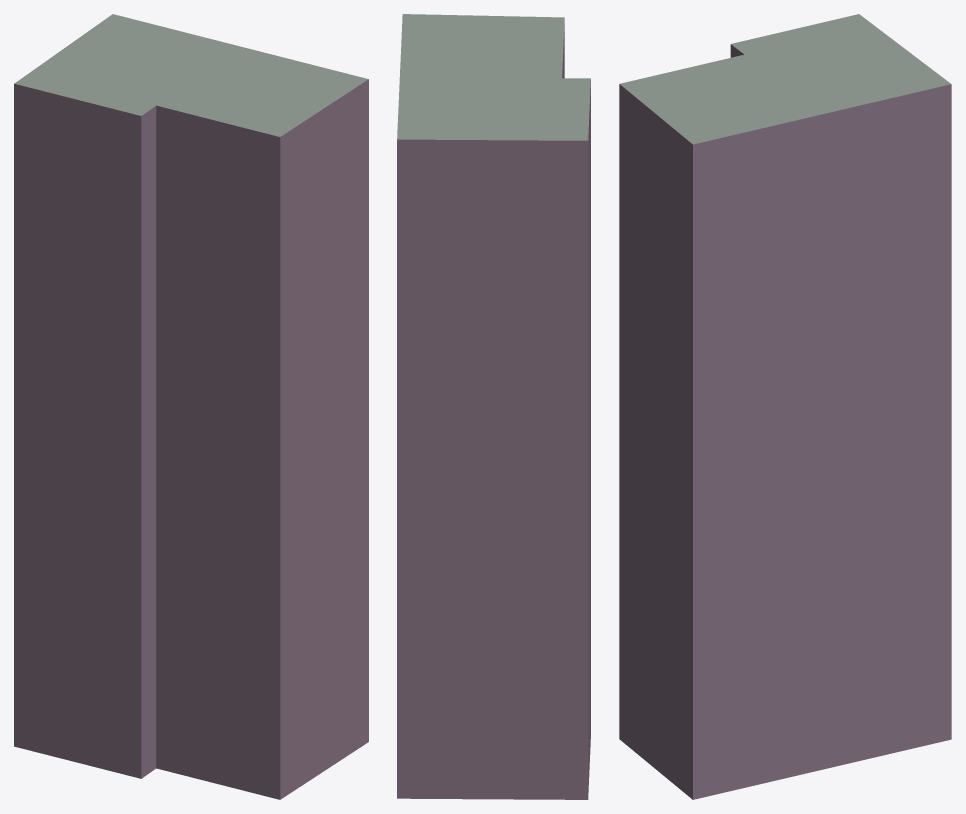
Rendered from nyc-1034346-0.glb.
3 renders of one model, left to right at view 1: azimuth 30°, elevation 25°; view 2: azimuth 150°, elevation 25°; view 3: azimuth 270°, elevation 25°, orthographic.
Parts seen in each view (by area): view 1: nyc-1034346-0; view 2: nyc-1034346-0; view 3: nyc-1034346-0.
Boxes of the visible parts, x1=… form: nyc-1034346-0: x1=14, y1=14, x2=368, y2=799; nyc-1034346-0: x1=397, y1=14, x2=590, y2=799; nyc-1034346-0: x1=619, y1=14, x2=951, y2=799.
Bounding box in the file's own units: 64.21 × 150 × 69.03.
